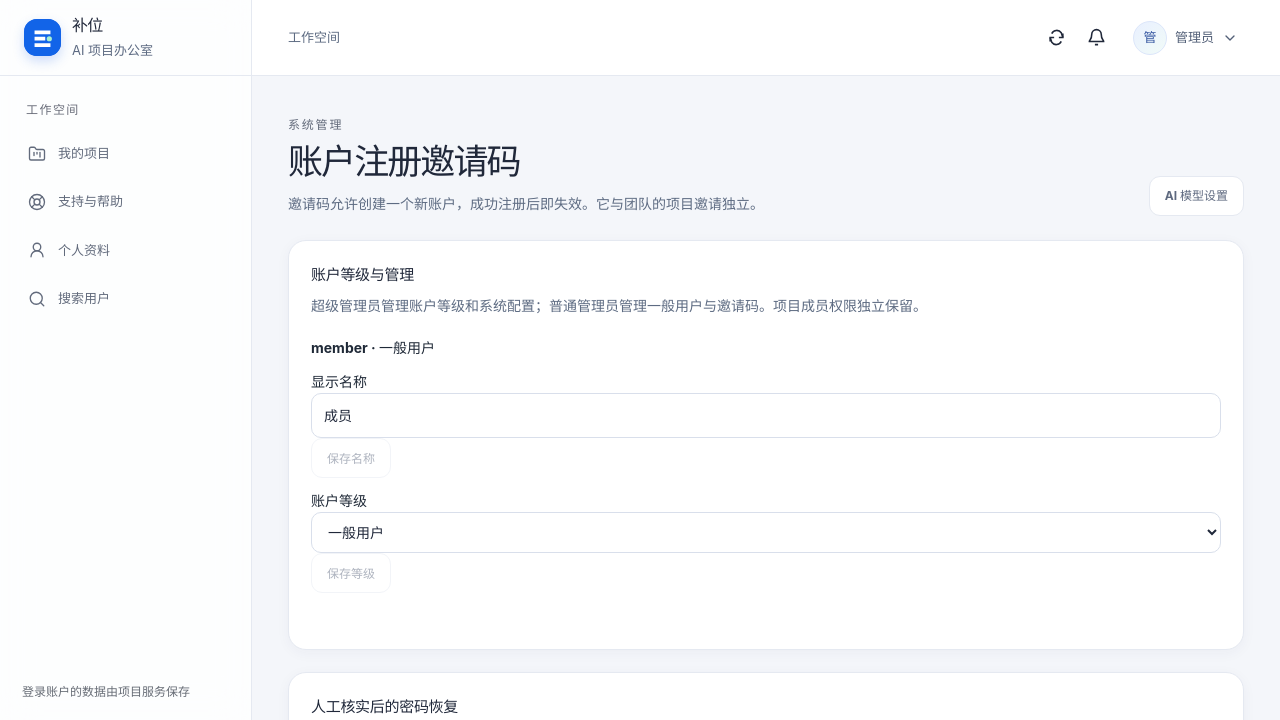
it: super admin can submit a role change and sees the persisted role
Select "普通管理员" in the dropdown named "member 账户等级" at (766,533), box [311,512,1221,553]
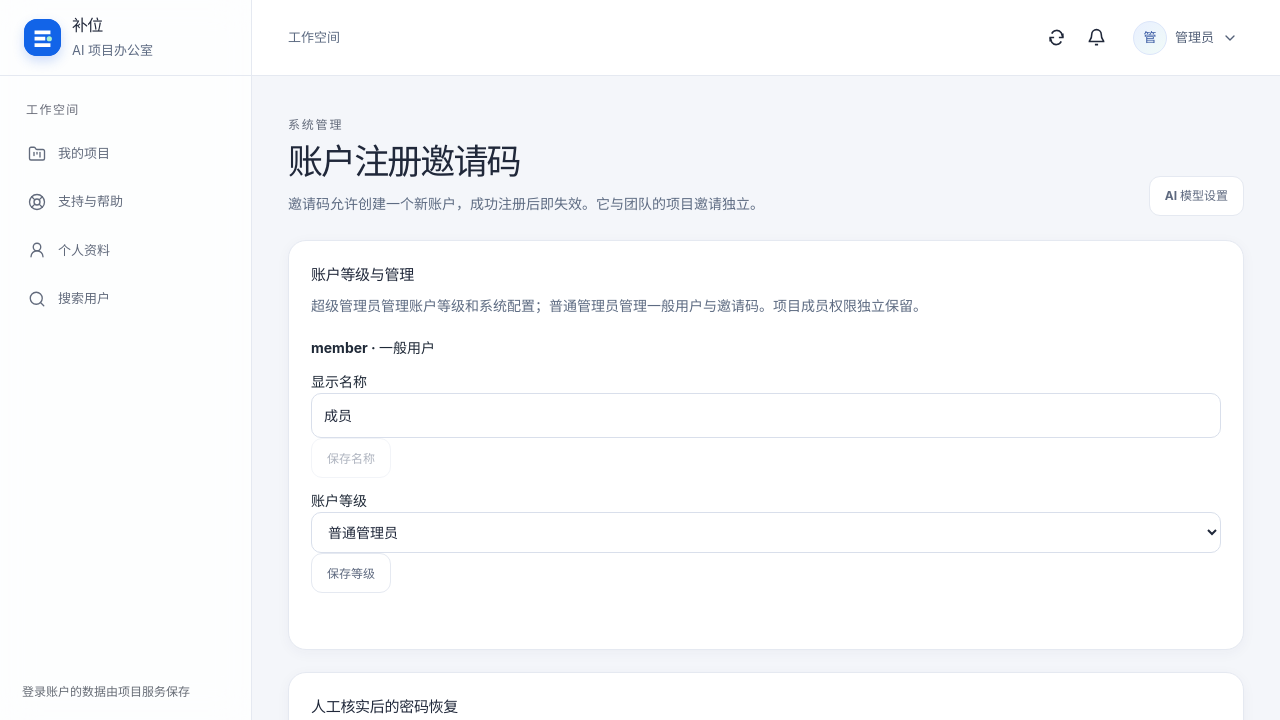
Click the button "保存等级".
click(351, 573)  # box [311,553,391,593]
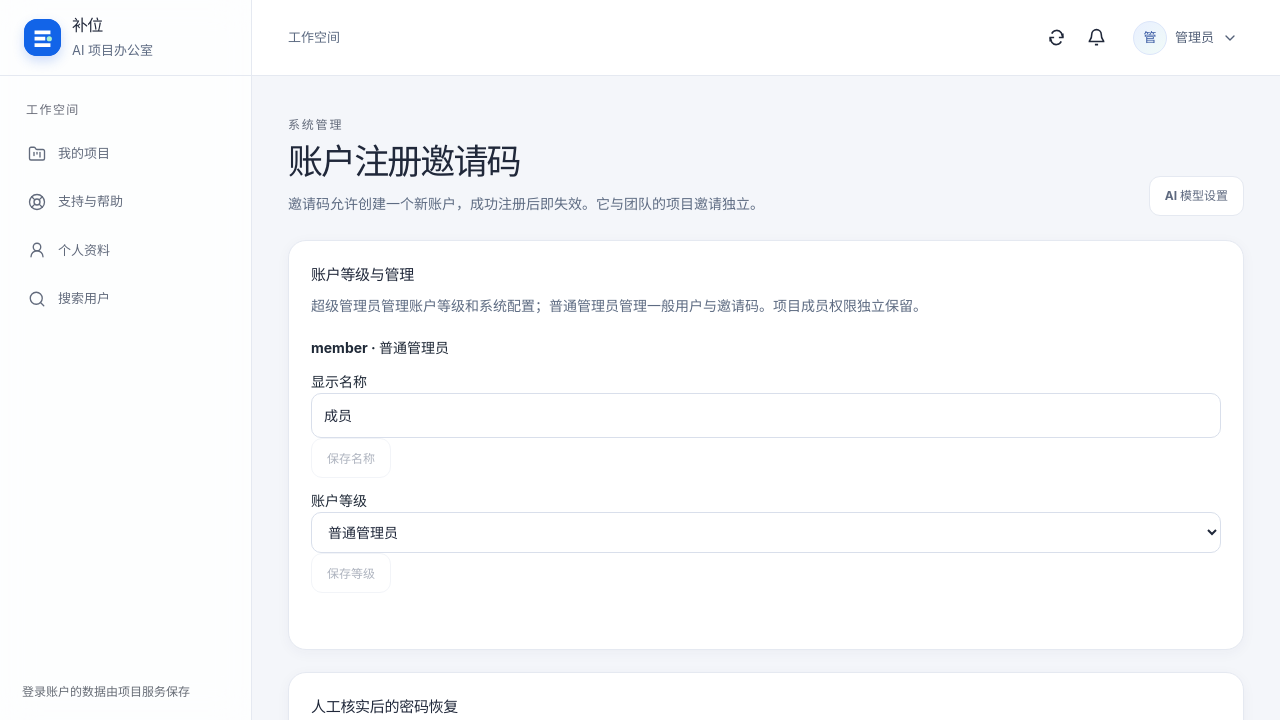
Expected: the text "member · 普通管理员" is shown, [311,339,449,356]
